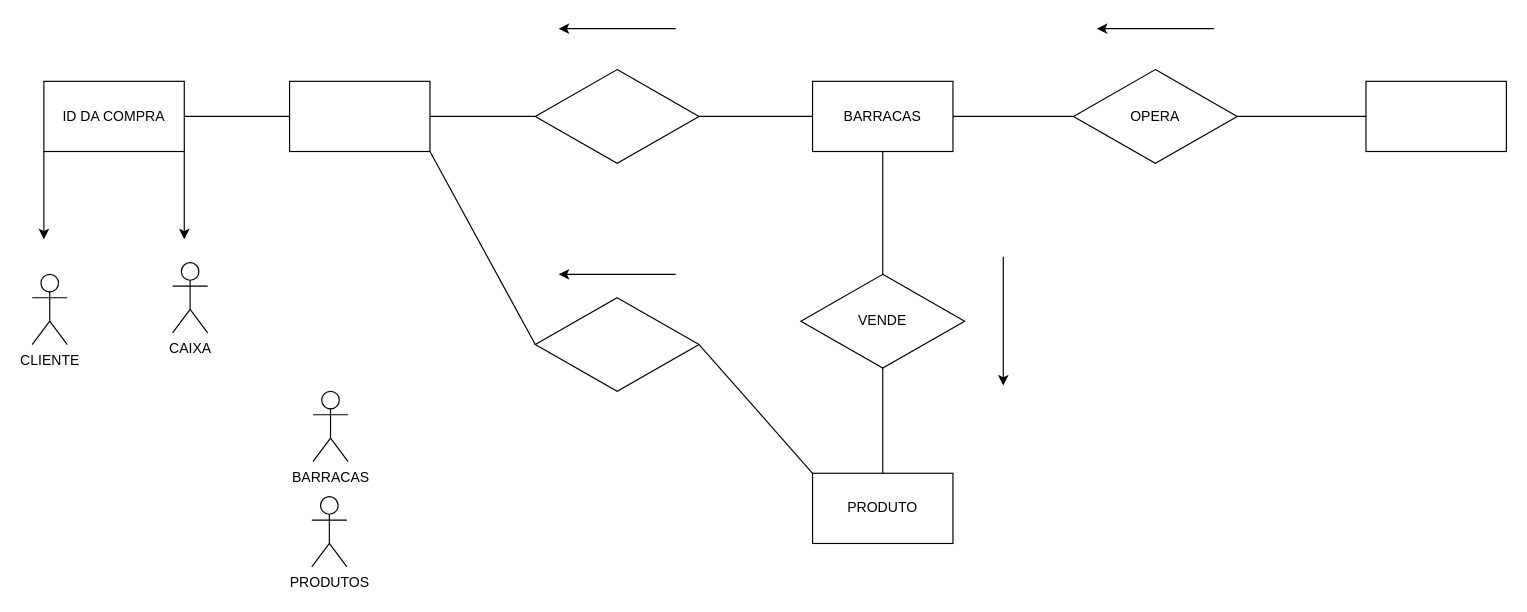
This 1527x612 diagram has some shape labels left out. The shapes that lost their labels are listed below. From the top down, each one's centre as x and y in pixels, then its label:
At point 359,116: "COMPRA".
At point 616,115: "REGISTRA".
At point 1435,116: "VENDEDOR".
At point 616,344: "GERA".
